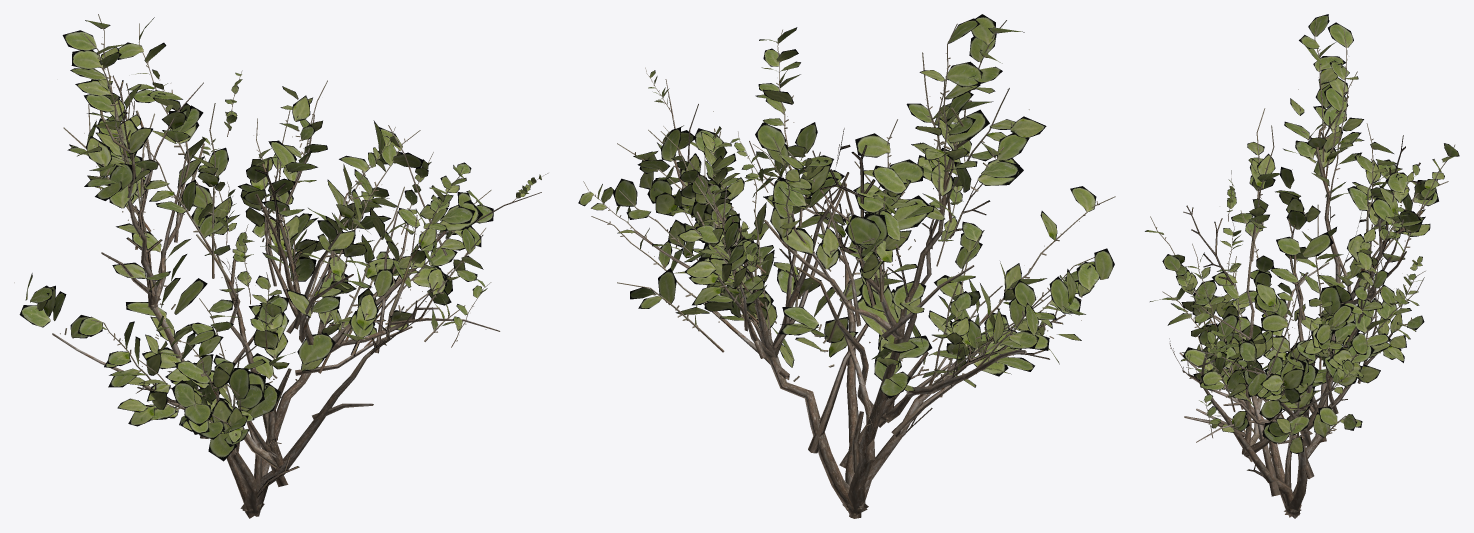
The model's file is ph_bush.glb.
The picture shows the model from 3 angles, left to right: view 1: azimuth 30°, elevation 25°; view 2: azimuth 150°, elevation 25°; view 3: azimuth 270°, elevation 25°; orthographic projection. The views are drawn at different scales.
Visible parts, largest first — view 1: searsia_lucida_e_LOD0; view 2: searsia_lucida_e_LOD0; view 3: searsia_lucida_e_LOD0.
Part boxes in pixels (x1,y1,x2,y2): searsia_lucida_e_LOD0: [14, 14, 548, 518]; searsia_lucida_e_LOD0: [578, 14, 1115, 518]; searsia_lucida_e_LOD0: [1145, 14, 1459, 518].
Bounding box in the file's own units: 1.02 × 1.03 × 0.6755.
2 materials, 2 textured.
